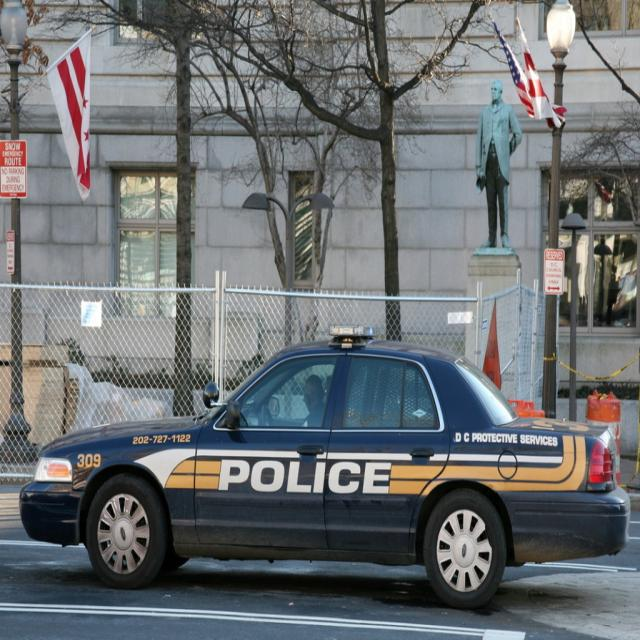car: (19, 325, 625, 609)
